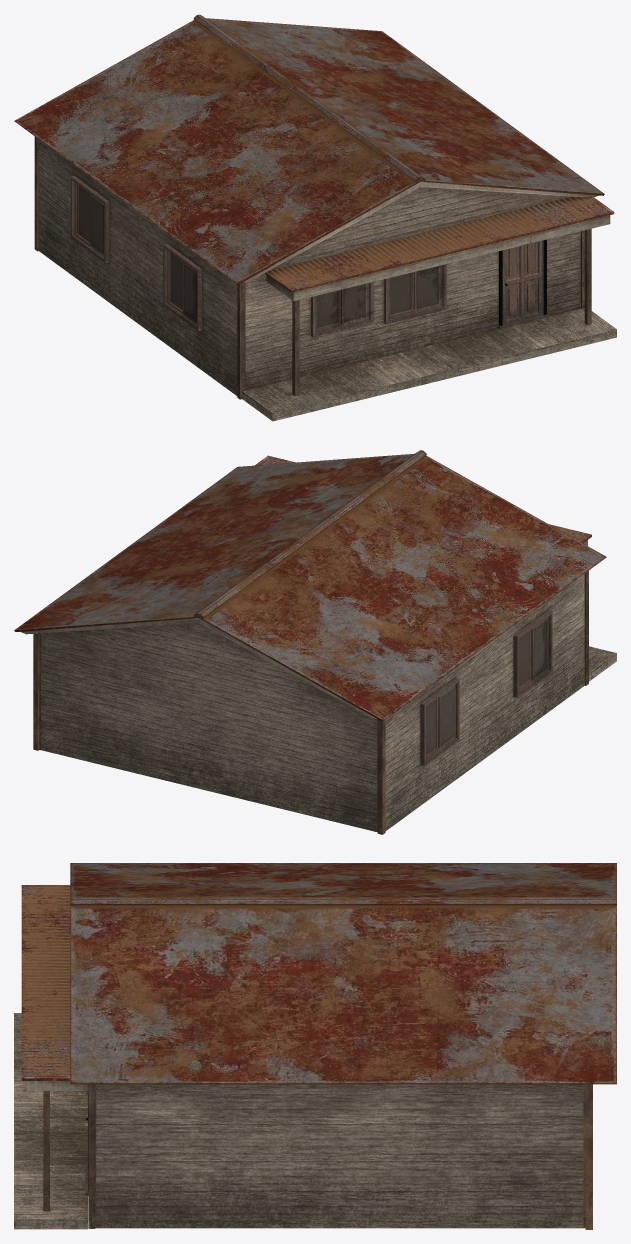
Rendered from lm-house.glb.
3 views of the same model, one above another, from view 1: azimuth 30°, elevation 25°; view 2: azimuth 150°, elevation 25°; view 3: azimuth 270°, elevation 25° (orthographic). The views are drawn at different scales.
Visible parts, largest first — view 1: Cube.022; view 2: Cube.022; view 3: Cube.022.
Boxes of the visible parts, x1,y1,x2,y2 form: Cube.022: [14, 14, 616, 421]; Cube.022: [14, 450, 616, 834]; Cube.022: [14, 863, 616, 1229].
Bounding box in the file's own units: 9.75 × 4.69 × 11.27.
1 material, 1 textured.
